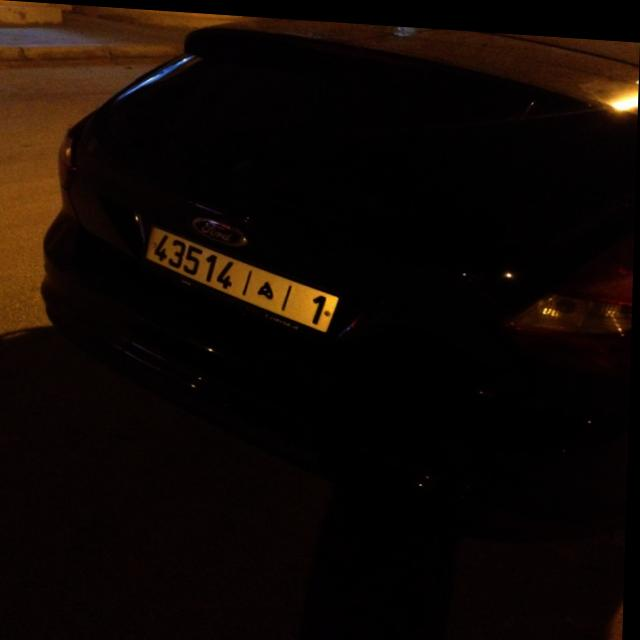License-Plate: (148, 225, 340, 327)
